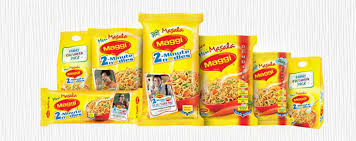plastic: (84, 48, 322, 119), (150, 29, 257, 115), (59, 41, 179, 111), (217, 59, 317, 121)
wrapper: (156, 30, 324, 130), (67, 29, 229, 119), (132, 9, 212, 135)
